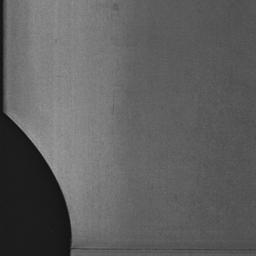Crescent gap: (5, 114, 72, 256)
